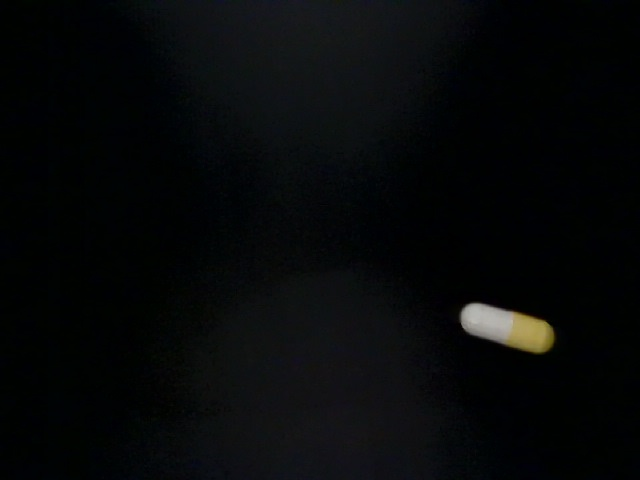YHLJ: (130, 225, 396, 377)
